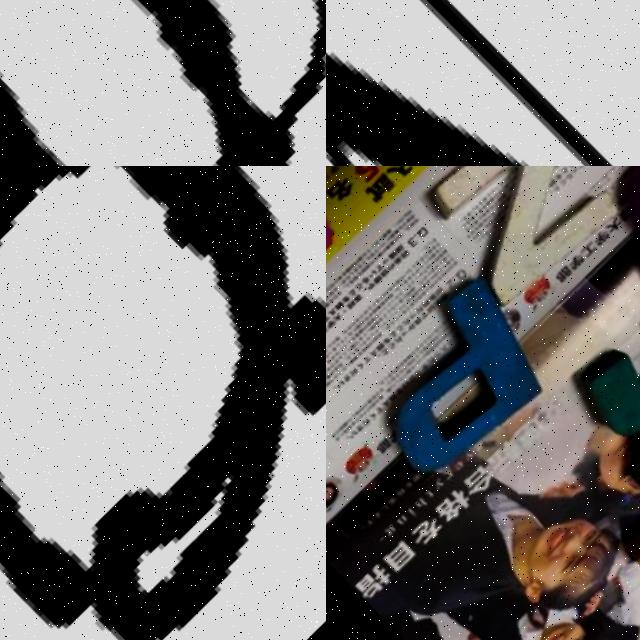D: (0, 0, 326, 166)
K: (547, 276, 640, 499)
M: (326, 0, 640, 166)
O: (0, 166, 326, 640)
P: (339, 271, 568, 487)
Z: (403, 166, 637, 310)
